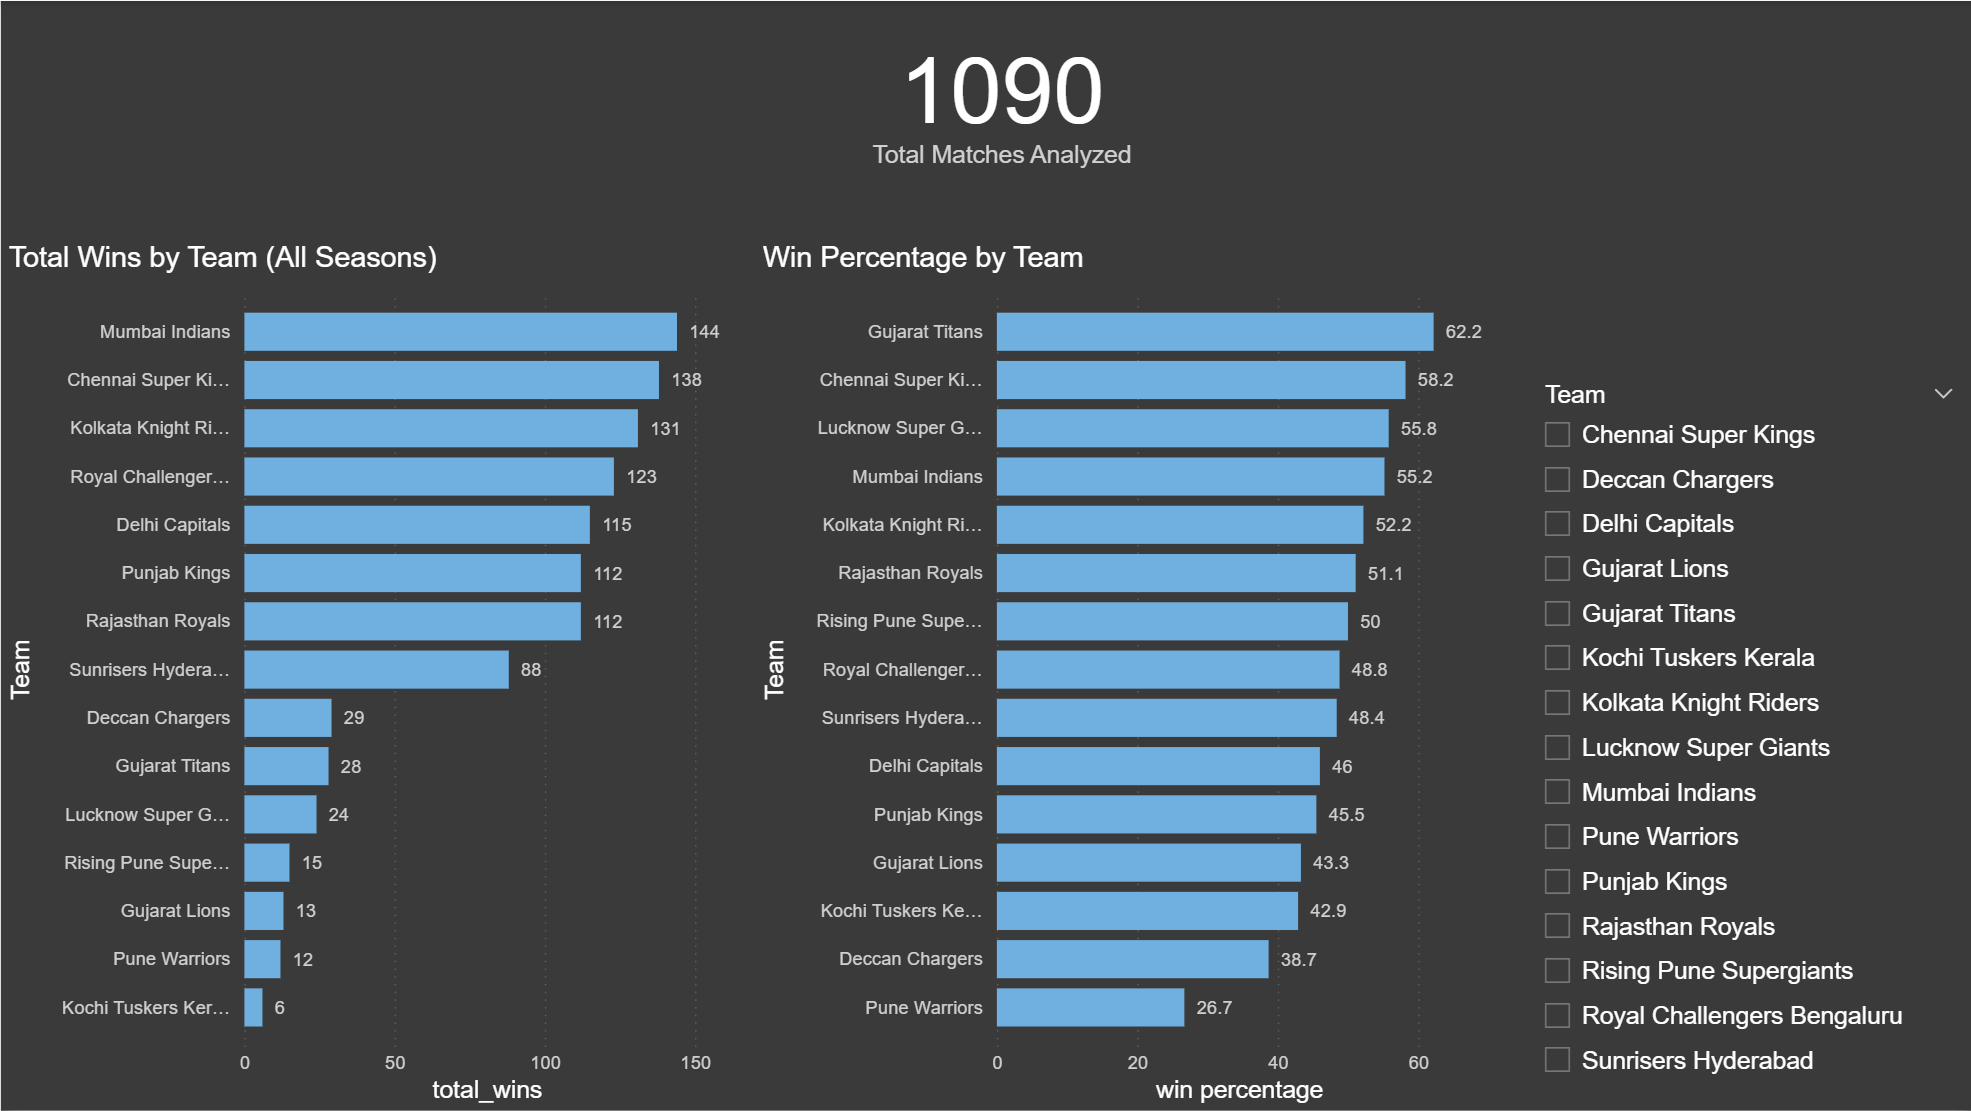

Layout of this report page (visuals, bound fields, positions):
{"tool":"powerbi","page":{"name":"Team Performance","canvas":[1280,720],"ordinal":0},"visuals":[{"type":"clusteredBarChart","title":"Total Wins by Team (All Seasons)","fields":{"Category":["pbi_team_performance.Team"],"Y":["Sum(pbi_team_performance.total_wins)"]},"box":[0,155.8,489.4,564.7],"z":0},{"type":"clusteredBarChart","title":"Win Percentage by Team","fields":{"Category":["pbi_team_performance.Team"],"Y":["Sum(pbi_team_performance.win_percentage)"]},"box":[489.4,155.8,484.2,564.7],"z":1},{"type":"card","fields":{"Values":["Sum(pbi_season_summary.Total_Matches)"]},"box":[489.4,0,320.6,124.6],"z":2},{"type":"slicer","fields":{"Values":["pbi_team_performance.Team"]},"box":[989.2,241.5,290.8,479],"z":3}]}

Visuals, with their boxes in screenshot pixels (x1, y1, x2, y2), scaled from the page's 1280x720 canvas onto the 1971x1111 screenshot:
"Total Wins by Team (All Seasons)" clusteredBarChart: 0, 240, 754, 1110
"Win Percentage by Team" clusteredBarChart: 754, 240, 1499, 1110
card - Sum(pbi_season_summary.Total_Matches): 754, 0, 1247, 192
slicer - pbi_team_performance.Team: 1523, 373, 1970, 1110
